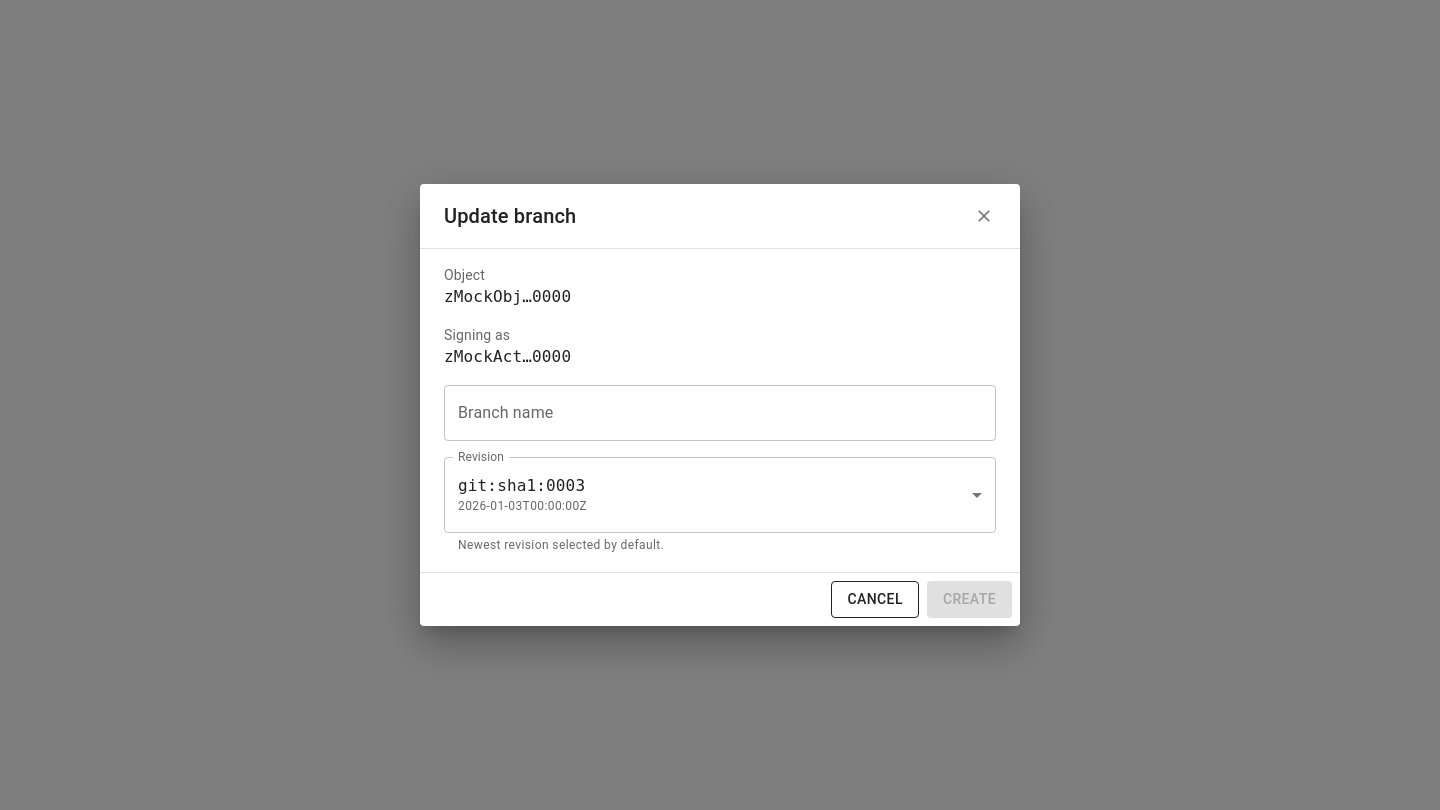
<BranchUpdateDialog /> › shows the update hint when the name matches an existing tip
Type "head" into the dropdown with test id "branch-name-input" at (705, 413), box [453,394,957,432]
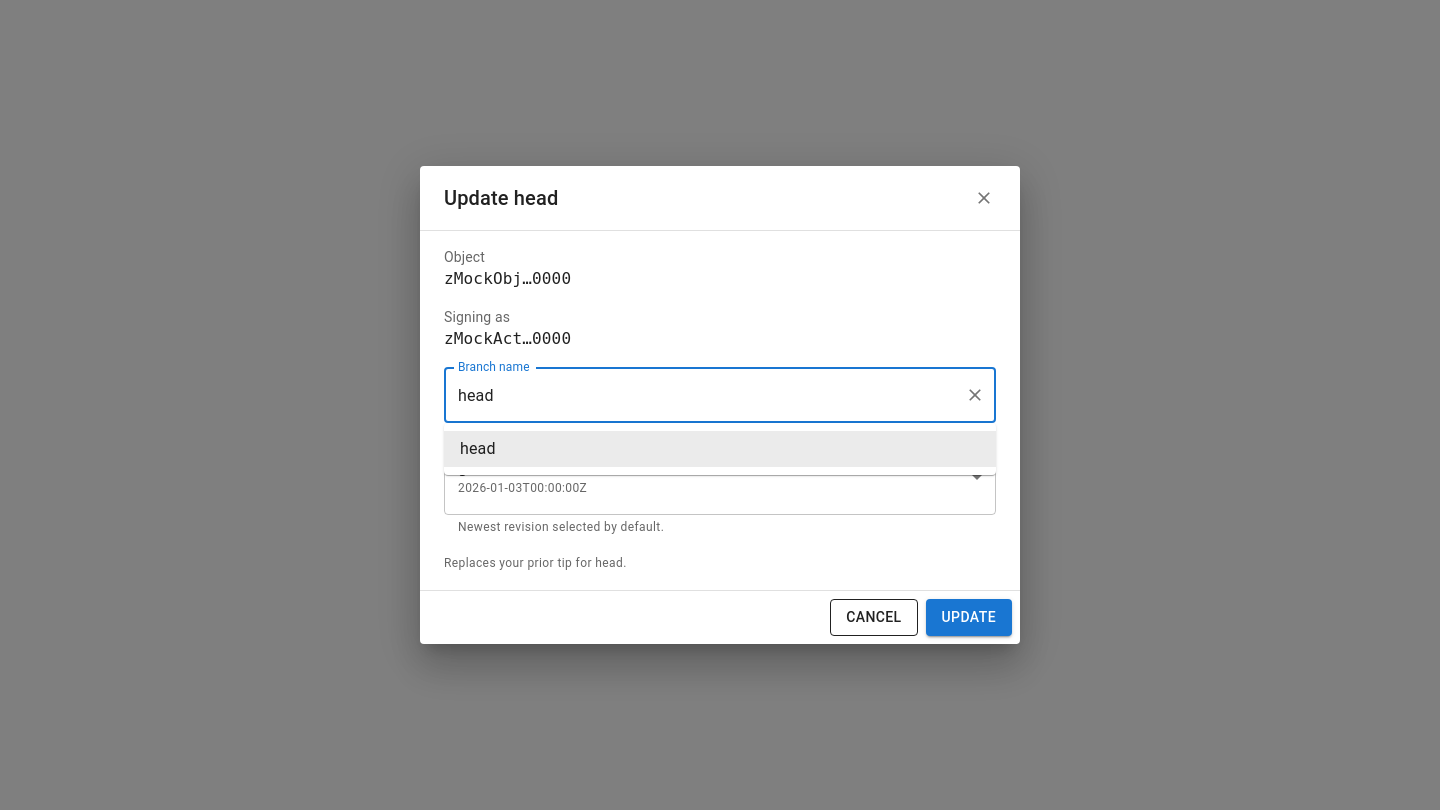
Expected: the text with test id "branch-mode-hint" shows "Replaces your prior tip", [444,556,627,570]
Expected: the button with test id "branch-update-submit" reads "Update", [926,599,1012,636]
